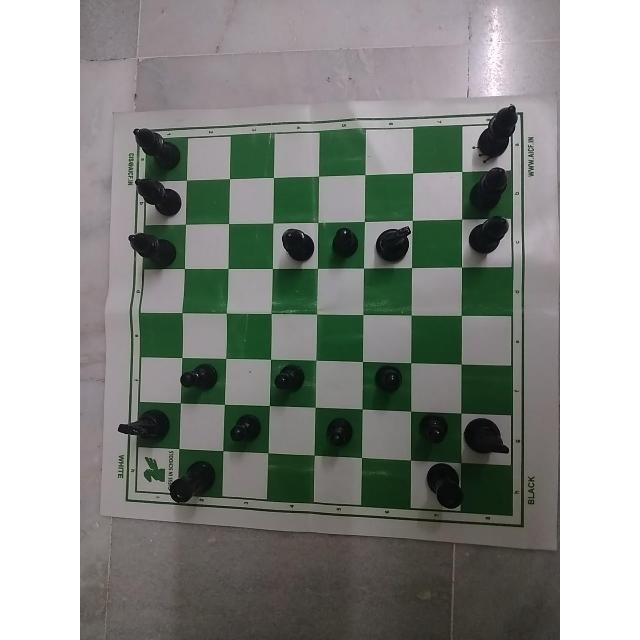black-bishop: (465, 98, 527, 162), (123, 219, 185, 271), (462, 160, 521, 210), (462, 214, 529, 257), (125, 124, 179, 168), (125, 176, 183, 216), (275, 218, 317, 264)
black-knight: (101, 399, 173, 449), (464, 414, 519, 464), (369, 217, 418, 269)
black-pawn: (364, 357, 415, 407), (171, 355, 225, 402), (403, 410, 454, 459), (316, 409, 364, 456), (323, 216, 365, 259), (265, 360, 311, 399), (222, 406, 261, 450)
black-rook: (169, 457, 221, 512), (417, 463, 465, 511)
